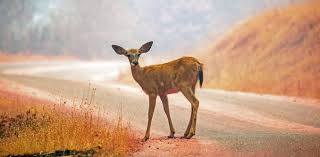deer: (110, 40, 204, 140)
